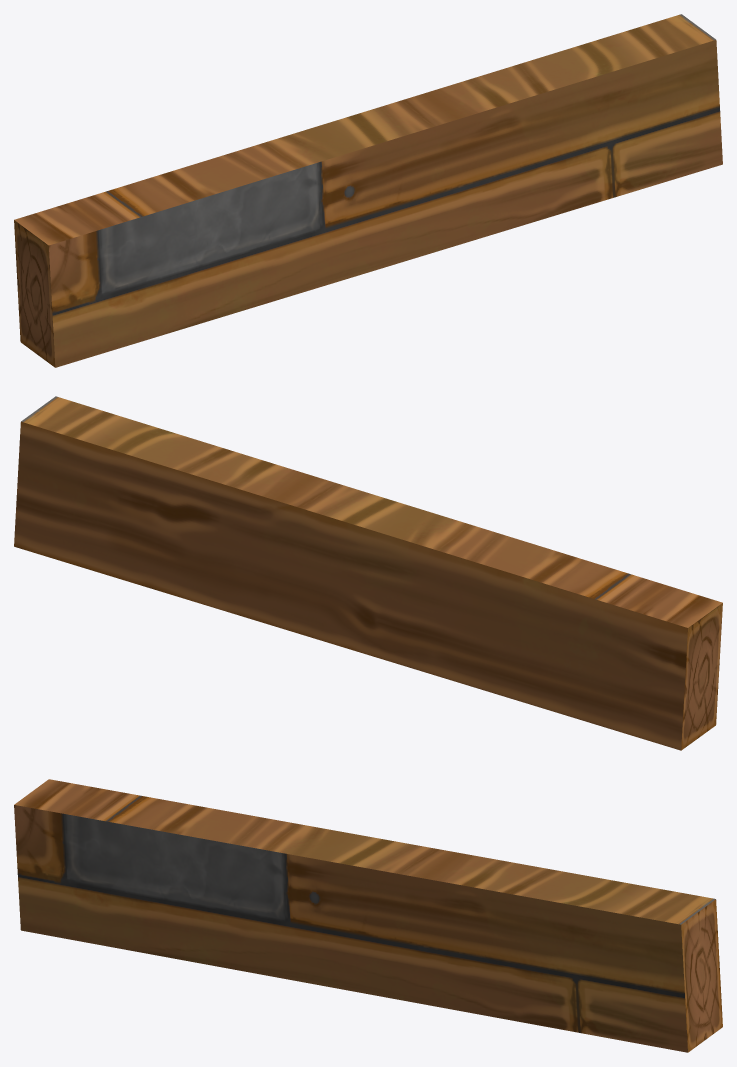
The picture shows the model from 3 angles, top to bottom: view 1: azimuth 30°, elevation 25°; view 2: azimuth 150°, elevation 25°; view 3: azimuth 330°, elevation 25°; orthographic projection.
Parts seen in each view (by area): view 1: Cube.1512; view 2: Cube.1512; view 3: Cube.1512.
Part boxes in pixels (bbox=[...]): Cube.1512: bbox=[14, 14, 722, 367]; Cube.1512: bbox=[14, 396, 722, 750]; Cube.1512: bbox=[14, 779, 722, 1052].
Size of the model in its own units: 167 by 39.58 by 15.15.
Materials: 1 (1 with a texture image).
